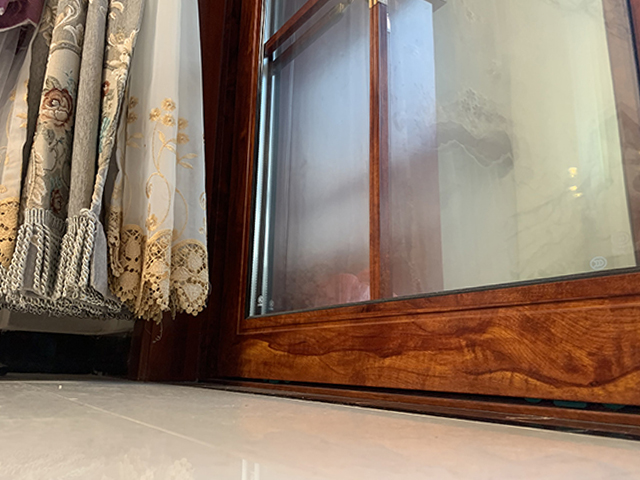curtain: (1, 1, 210, 321)
